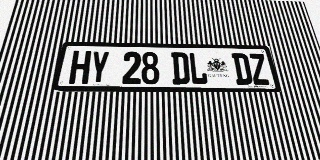2: (122, 51, 141, 84)
8: (141, 52, 159, 84)
D: (231, 53, 253, 85), (171, 52, 190, 84)
H: (68, 51, 91, 84)
L: (188, 52, 208, 85)
Y: (88, 51, 110, 84)
Z: (248, 53, 271, 85)
